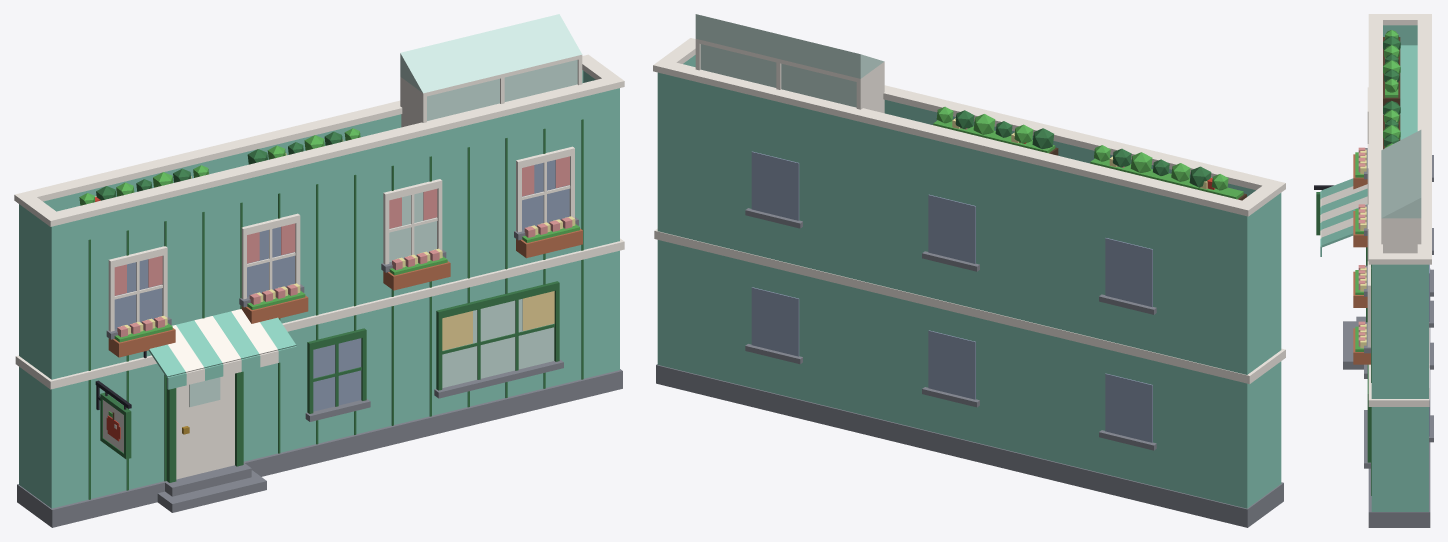
The model's file is CatCafe_Alley_Building_Grocer.glb.
3 views of the same model, side by side, from view 1: azimuth 30°, elevation 25°; view 2: azimuth 150°, elevation 25°; view 3: azimuth 270°, elevation 25° (orthographic). The views are drawn at different scales.
Parts seen in each view (by area): view 1: CatCafe_Alley_Building_Grocer, CatCafe_Alley_Building_Grocer_Pane, CatCafe_Alley_Building_Grocer_Flowers; view 2: CatCafe_Alley_Building_Grocer, CatCafe_Alley_Building_Grocer_Flowers, CatCafe_Alley_Building_Grocer_Pane; view 3: CatCafe_Alley_Building_Grocer, CatCafe_Alley_Building_Grocer_Flowers.
Boxes of the visible parts, box(x1,y1,x2,y2) form: CatCafe_Alley_Building_Grocer: box(14, 14, 624, 527); CatCafe_Alley_Building_Grocer_Pane: box(389, 60, 577, 387); CatCafe_Alley_Building_Grocer_Flowers: box(79, 128, 579, 342); CatCafe_Alley_Building_Grocer: box(653, 14, 1285, 527); CatCafe_Alley_Building_Grocer_Flowers: box(933, 106, 1243, 199); CatCafe_Alley_Building_Grocer_Pane: box(700, 44, 856, 107); CatCafe_Alley_Building_Grocer: box(1314, 14, 1433, 527); CatCafe_Alley_Building_Grocer_Flowers: box(1355, 30, 1400, 351).
Bounding box in the file's own units: 30.3 × 18.2 × 6.25.
1 material, 1 textured.
